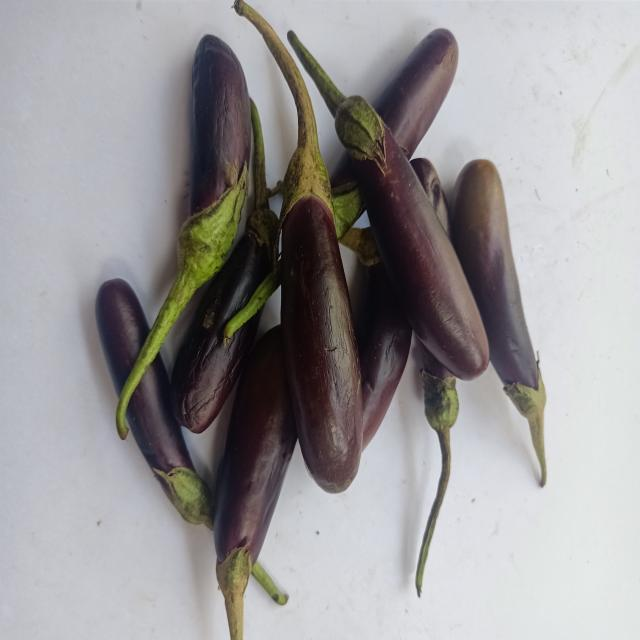Brinjal: (287, 30, 490, 380), (240, 2, 362, 493), (123, 34, 256, 404), (451, 159, 547, 486), (214, 325, 297, 640), (171, 231, 272, 433), (127, 354, 213, 528), (95, 278, 148, 395)
